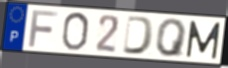2: (94, 14, 121, 54)
D: (121, 14, 156, 56)
F: (27, 8, 60, 49)
M: (184, 19, 222, 60)
O: (60, 11, 91, 52)
Q: (155, 17, 189, 58)
